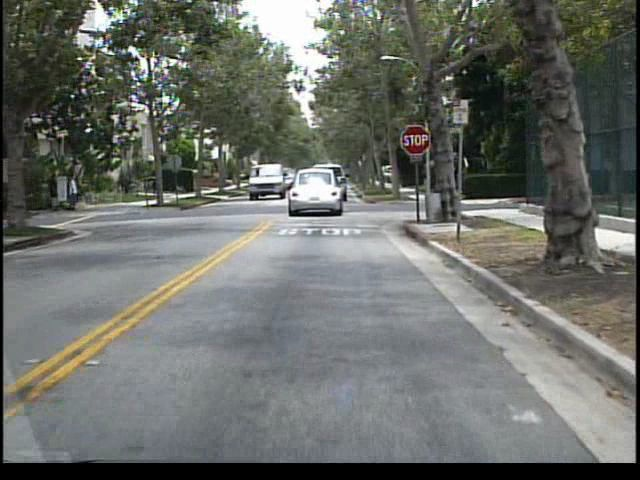person: (68, 167, 83, 214), (49, 169, 62, 215)
